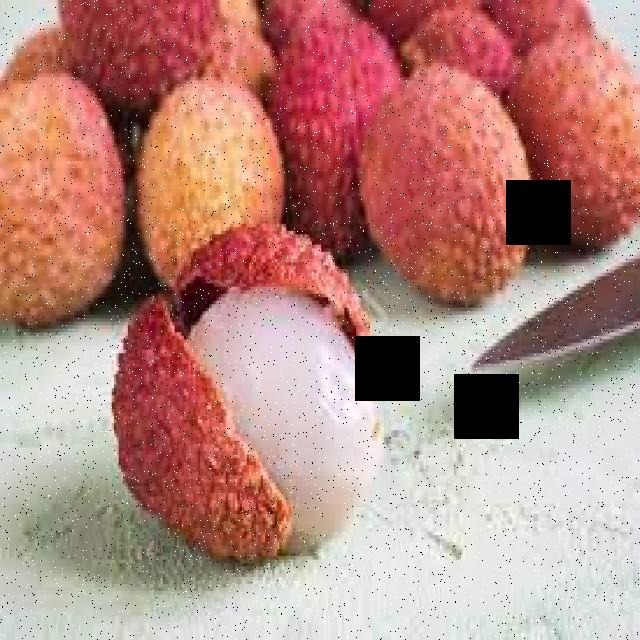lychee: (117, 252, 378, 555)
